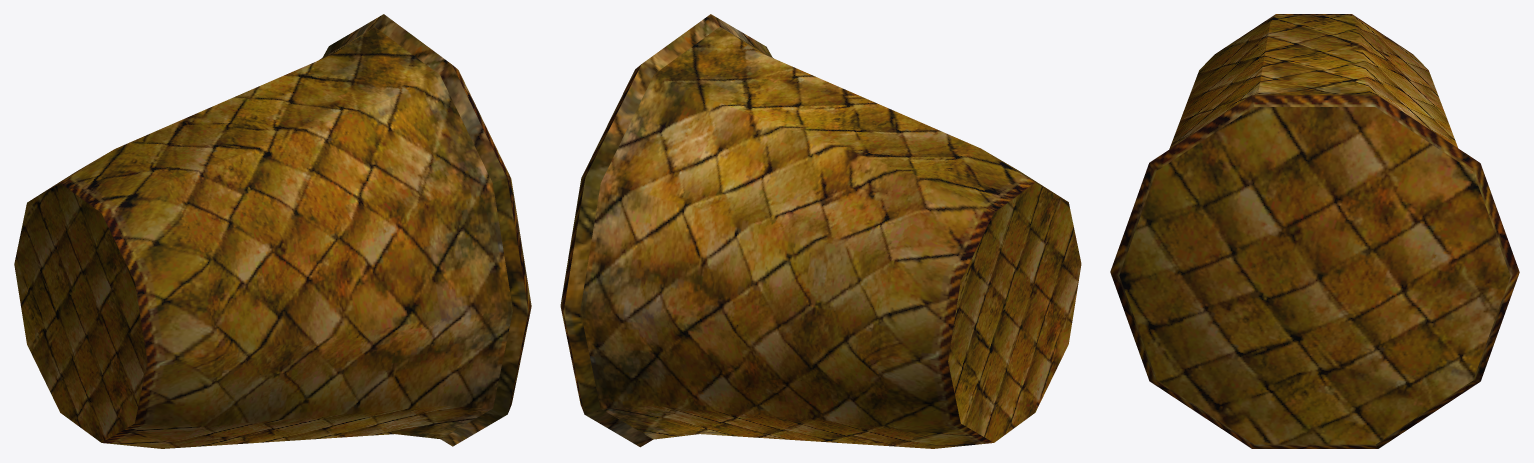
File: hr_ps_basket2.glb
The picture shows the model from 3 angles, left to right: view 1: azimuth 30°, elevation 25°; view 2: azimuth 150°, elevation 25°; view 3: azimuth 270°, elevation 25°; orthographic projection. The views are drawn at different scales.
Visible parts, largest first — view 1: hr_ps_basket2; view 2: hr_ps_basket2; view 3: hr_ps_basket2.
Boxes of the visible parts, x1,y1,x2,y2 form: hr_ps_basket2: (14,14,531,448); hr_ps_basket2: (560,14,1081,448); hr_ps_basket2: (1110,14,1519,448).
Bounding box in the file's own units: 0.8782 × 0.8118 × 0.8533.
1 material, 1 textured.
